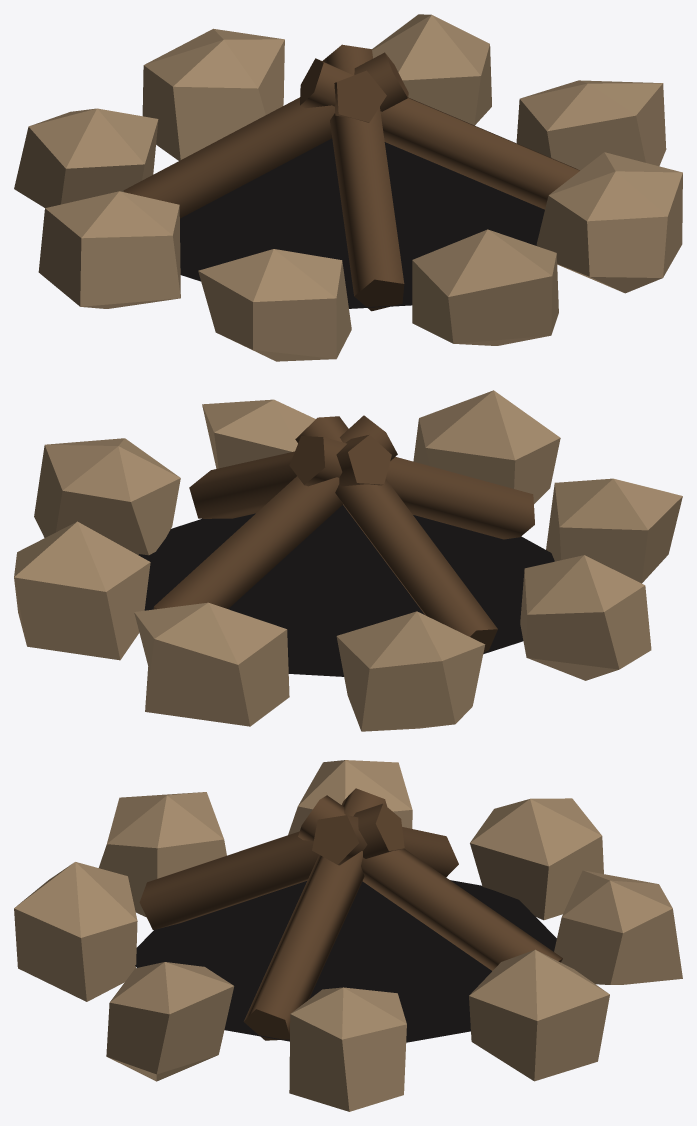
Rendered from campfire.glb.
3 views of the same model, one above another, from view 1: azimuth 30°, elevation 25°; view 2: azimuth 150°, elevation 25°; view 3: azimuth 270°, elevation 25° (orthographic). The views are drawn at different scales.
Parts seen in each view (by area): view 1: campfire; view 2: campfire; view 3: campfire.
Part boxes in pixels (<box>): campfire: <box>14,14,682,361</box>; campfire: <box>14,390,682,731</box>; campfire: <box>14,760,682,1111</box>.
Size of the model in its own units: 1.28 by 0.4108 by 1.25.
